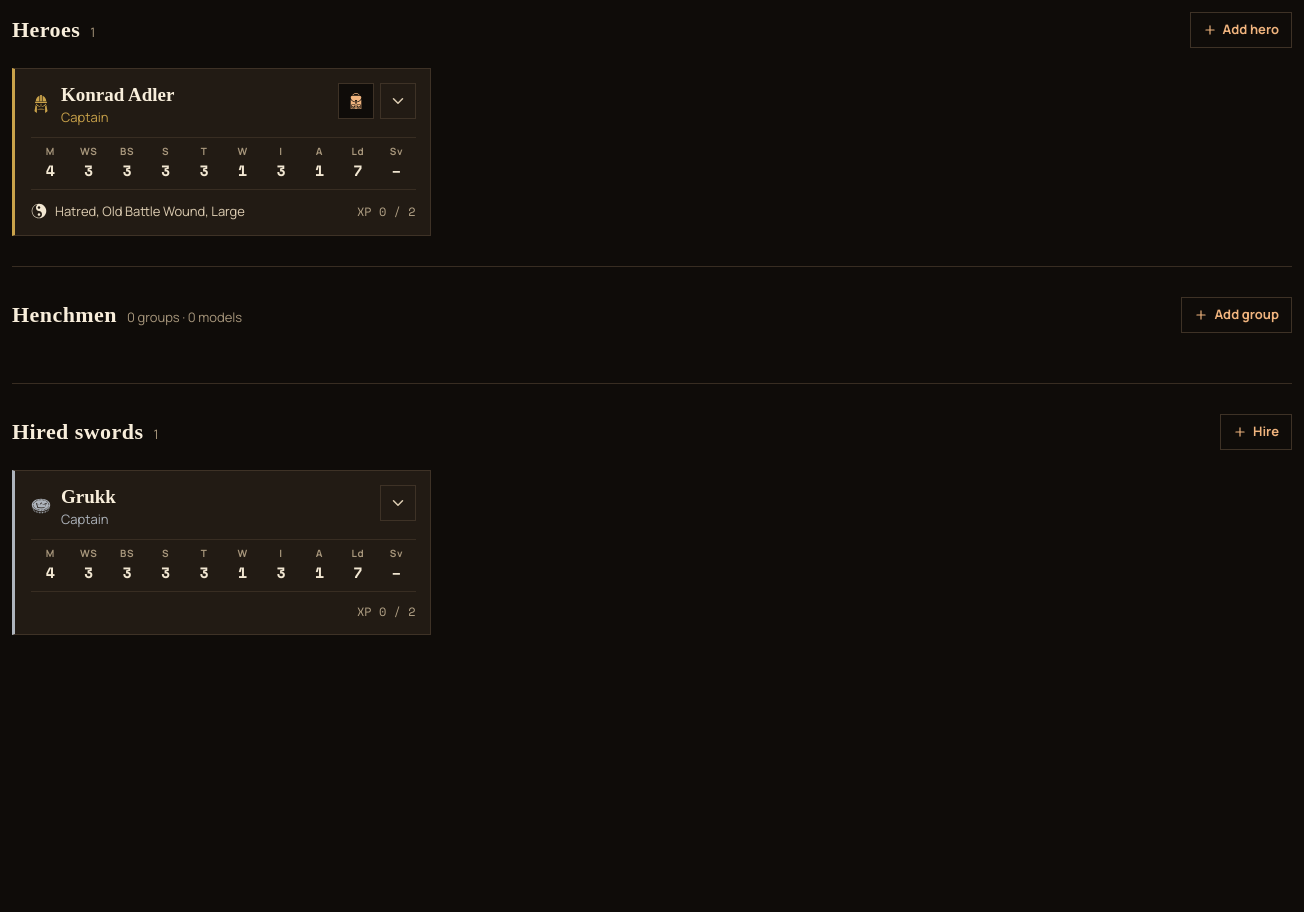
Test: An open card's Specials › offers Add item on an open hero, never on an open hired sword
The width and height of the screenshot is (1304, 912).
Click the button named "Open Grukk" at {"x": 398, "y": 503}, box [380, 485, 416, 521]
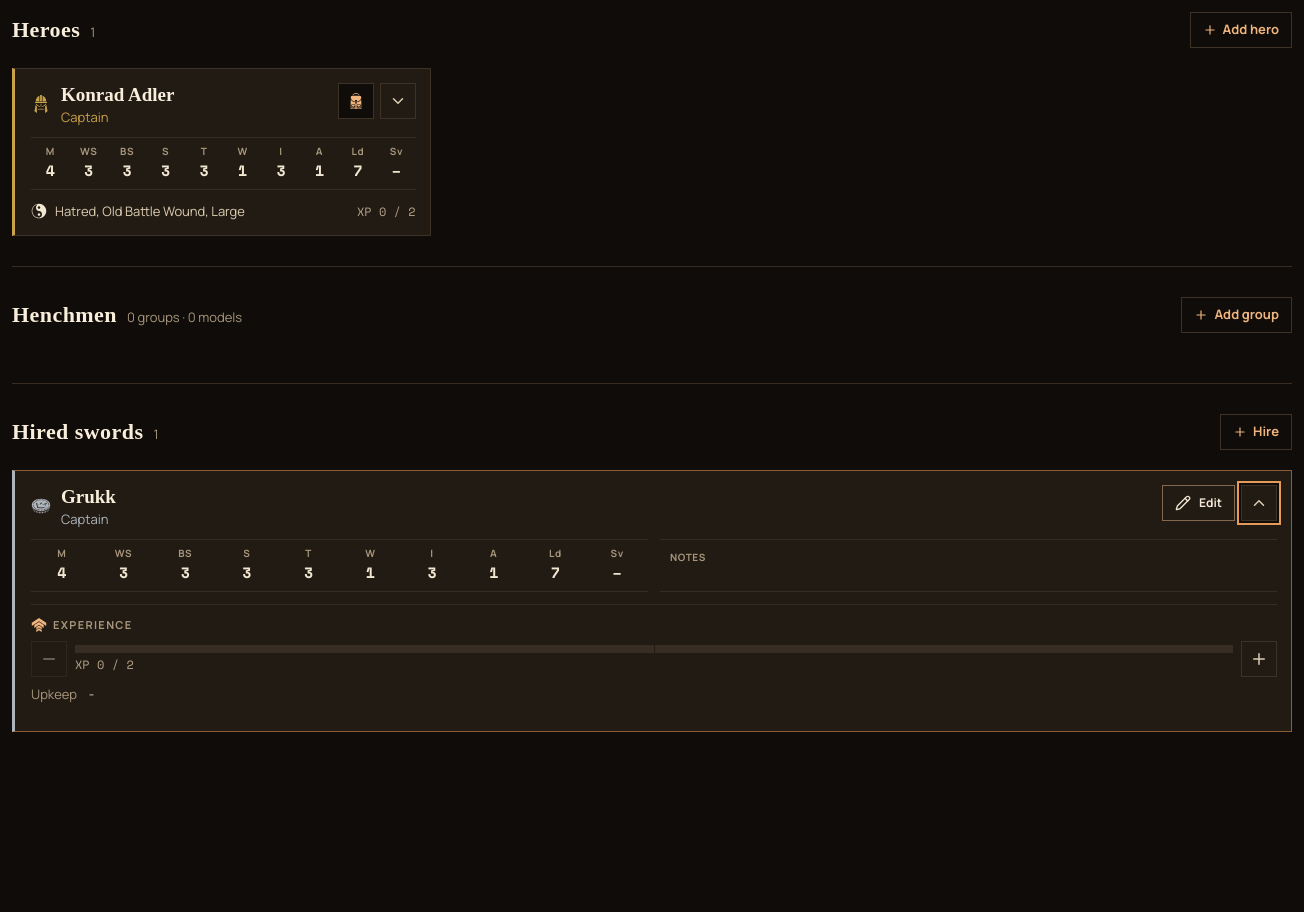
Expected: the button "Add item" is not shown
Click the button named "Open Konrad Adler" at {"x": 398, "y": 101}, box [380, 83, 416, 119]
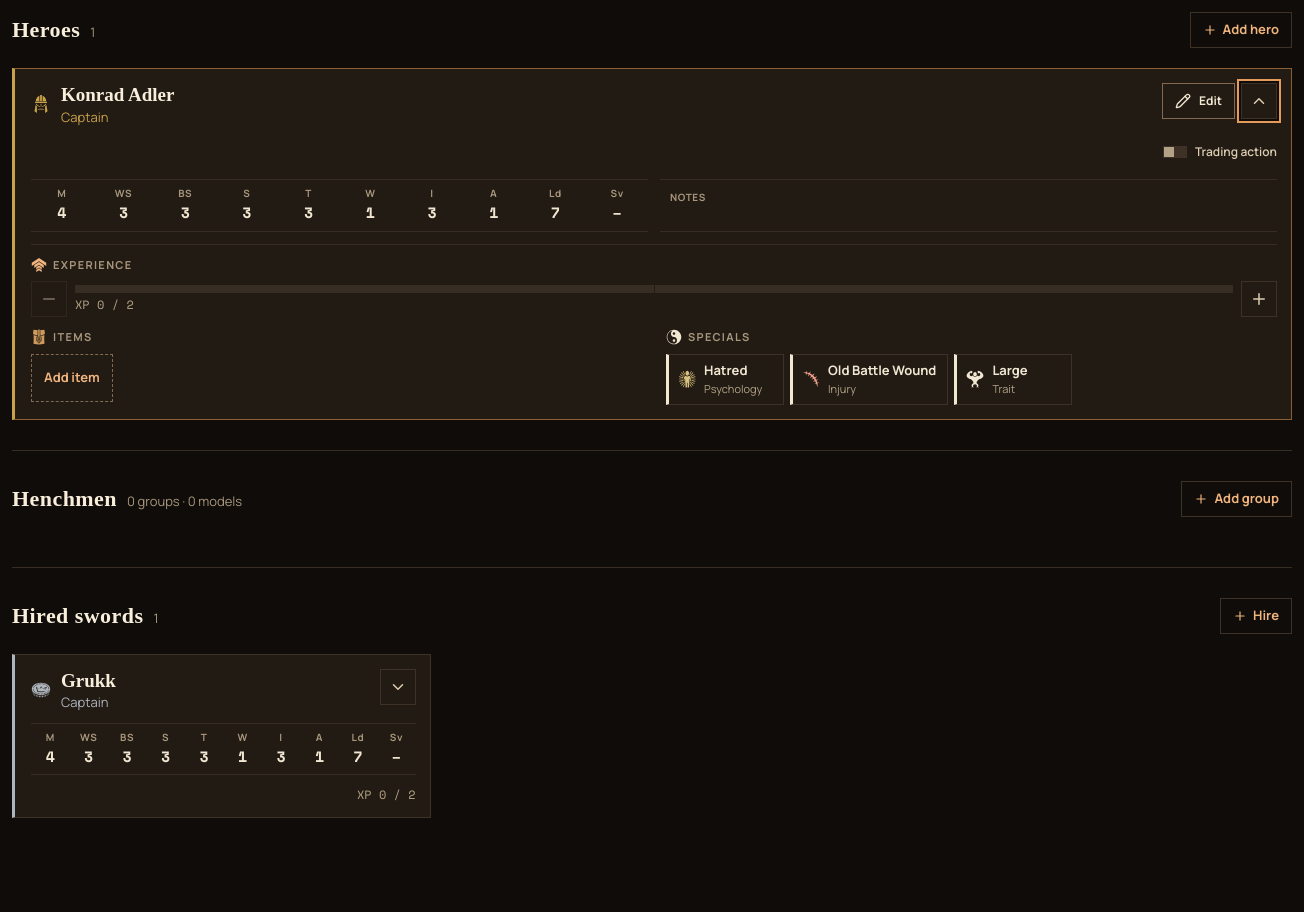
Expected: the button "Add item" is shown, [31, 354, 113, 402]
